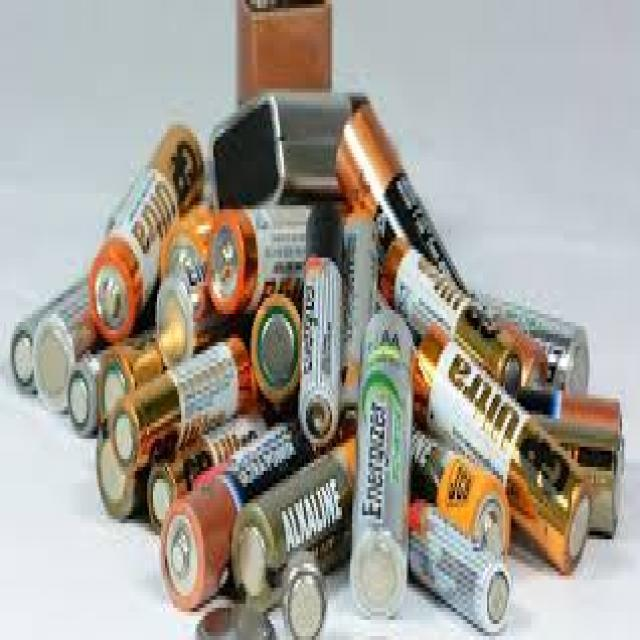battery: (413, 320, 591, 580), (158, 408, 312, 616), (92, 116, 206, 352), (335, 96, 466, 300), (231, 438, 360, 614), (212, 89, 372, 214), (354, 309, 412, 626), (408, 421, 515, 560), (404, 500, 511, 634), (300, 198, 344, 447), (342, 204, 379, 434)
